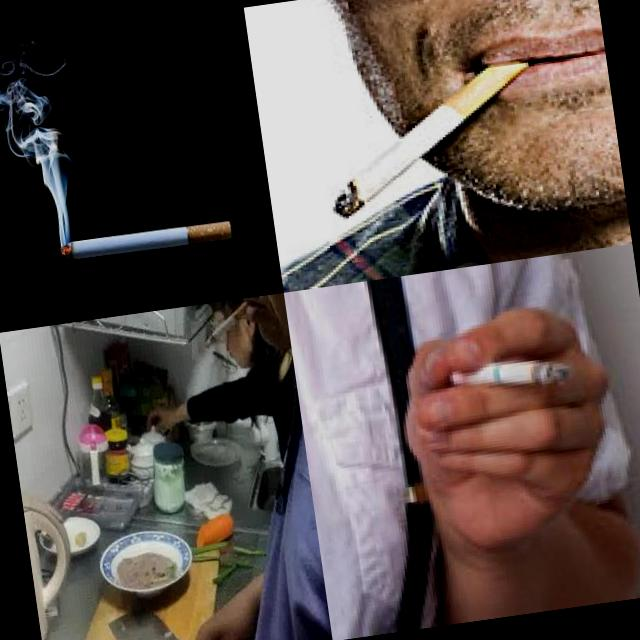smoke: (313, 50, 548, 222), (59, 220, 232, 264), (442, 345, 582, 398), (200, 300, 255, 348)
